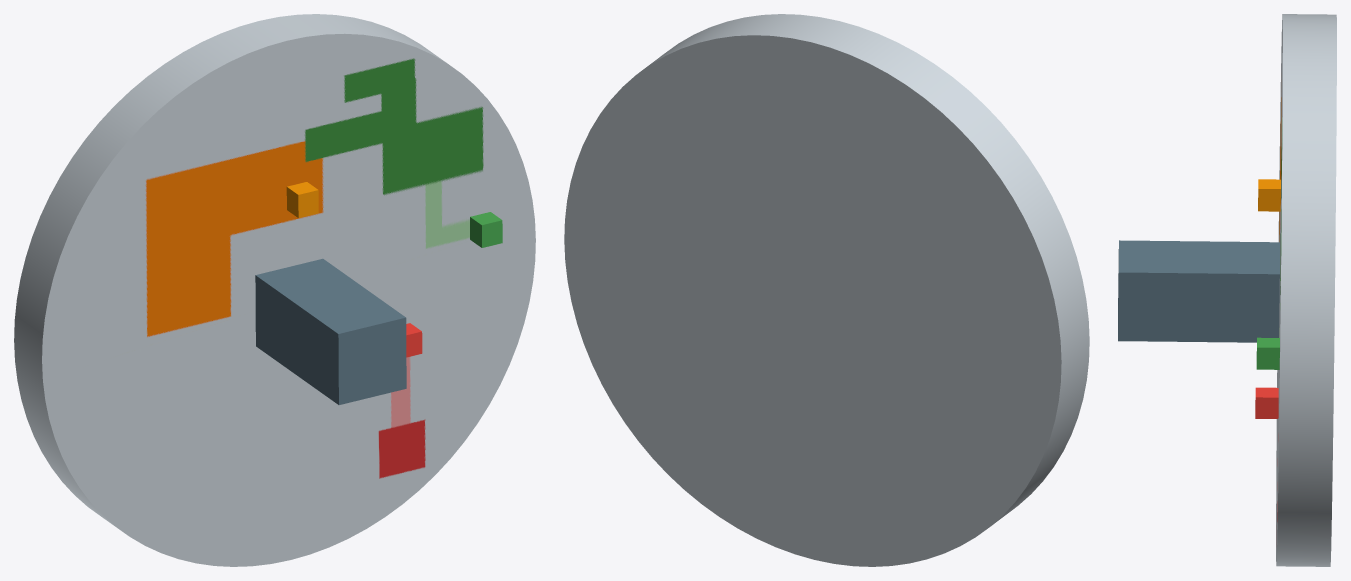
3 renders of one model, left to right at view 1: azimuth 30°, elevation 25°; view 2: azimuth 150°, elevation 25°; view 3: azimuth 270°, elevation 25°, orthographic. The views are drawn at different scales.
Visible parts, largest first — view 1: mesh_id54, mesh_id117, mesh_id281, mesh_id237; view 2: mesh_id54; view 3: mesh_id54, mesh_id117, mesh_id197, mesh_id237, mesh_id281.
Boxes of the visible parts, x1,y1,x2,y2 form: mesh_id54: [14, 14, 535, 566]; mesh_id117: [255, 258, 406, 404]; mesh_id281: [470, 212, 502, 247]; mesh_id237: [286, 182, 318, 218]; mesh_id54: [564, 14, 1089, 566]; mesh_id54: [1276, 14, 1336, 566]; mesh_id117: [1118, 240, 1279, 342]; mesh_id197: [1255, 387, 1278, 418]; mesh_id237: [1258, 179, 1280, 211]; mesh_id281: [1256, 337, 1279, 369].
Bounding box in the file's own units: 1246 × 1247 × 494.
Materials: 5 (5 with a texture image).
